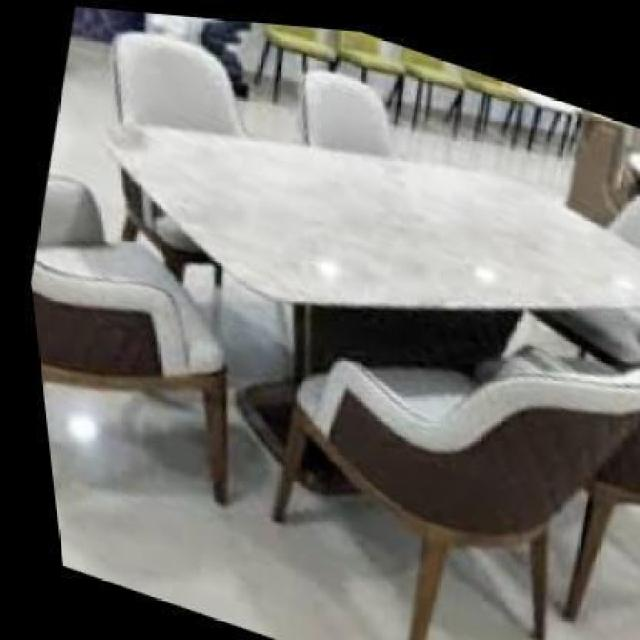tables: (103, 120, 639, 523)
